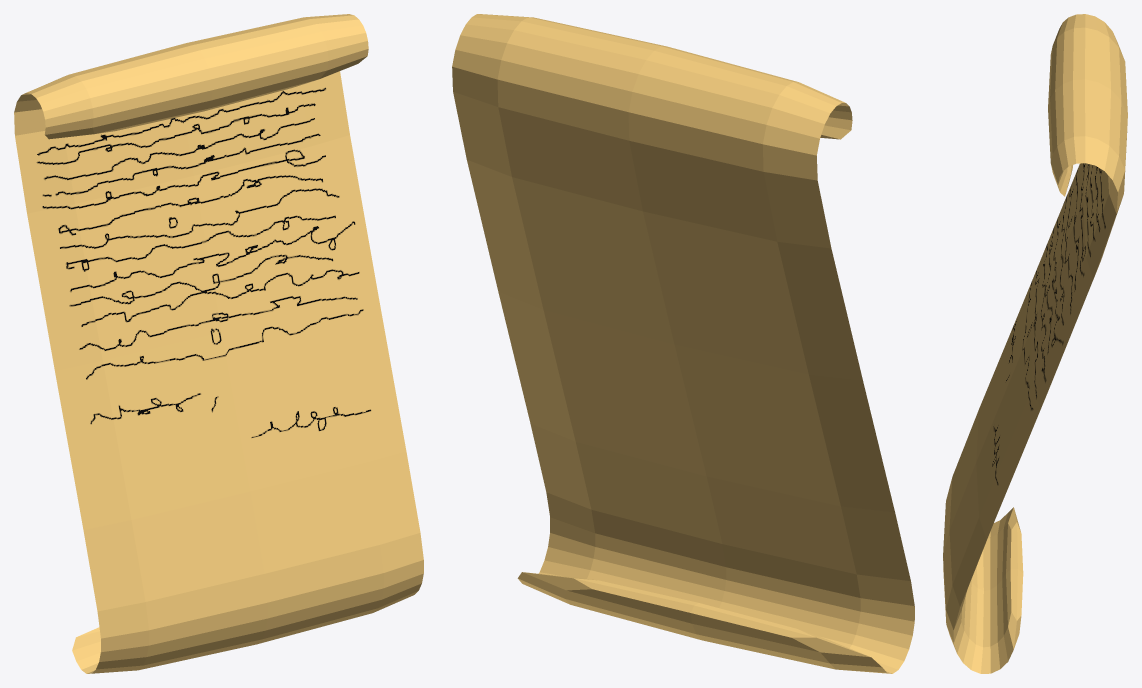
File: note.glb
3 renders of one model, left to right at view 1: azimuth 30°, elevation 25°; view 2: azimuth 150°, elevation 25°; view 3: azimuth 270°, elevation 25°, orthographic. The views are drawn at different scales.
Visible parts, largest first — view 1: Cube; view 2: Cube; view 3: Cube.
Part boxes in pixels (bbox=[...]): Cube: bbox=[14, 14, 423, 673]; Cube: bbox=[452, 14, 914, 673]; Cube: bbox=[943, 14, 1127, 673].
Size of the model in its own units: 1.83 by 3.03 by 0.9602.
1 material, 1 textured.
